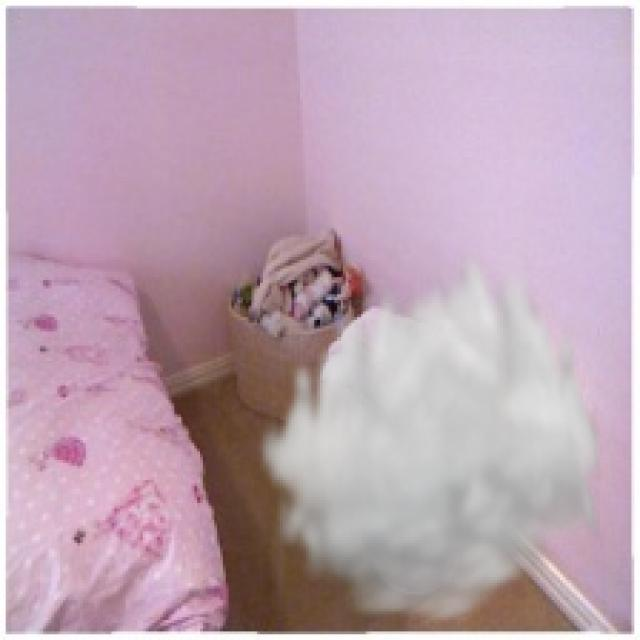smoke: (254, 237, 606, 632)
